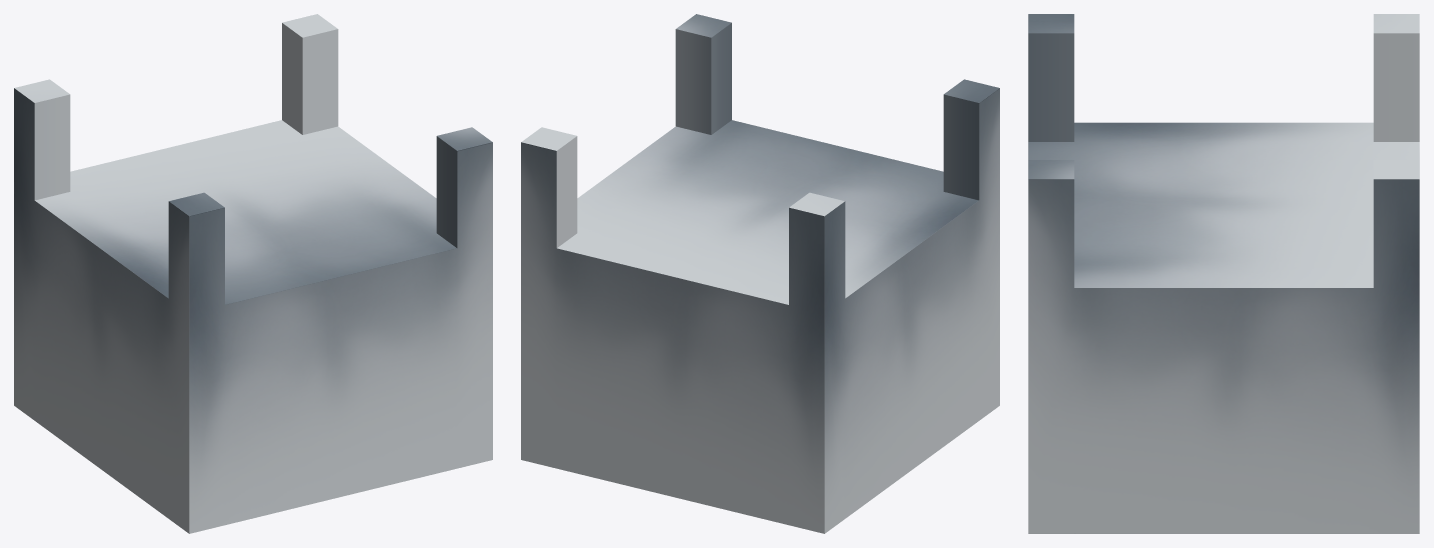
File: Wall Variant A(T).fbx
3 renders of one model, left to right at view 1: azimuth 30°, elevation 25°; view 2: azimuth 150°, elevation 25°; view 3: azimuth 270°, elevation 25°, orthographic. The views are drawn at different scales.
Parts seen in each view (by area): view 1: Plane014; view 2: Plane014; view 3: Plane014.
Part boxes in pixels (box(x1,y1,x2,y2)): Plane014: box(14, 14, 492, 533); Plane014: box(521, 14, 999, 533); Plane014: box(1028, 14, 1419, 533).
Bounding box in the file's own units: 39.37 × 39.37 × 39.37.
1 material, 1 textured.
